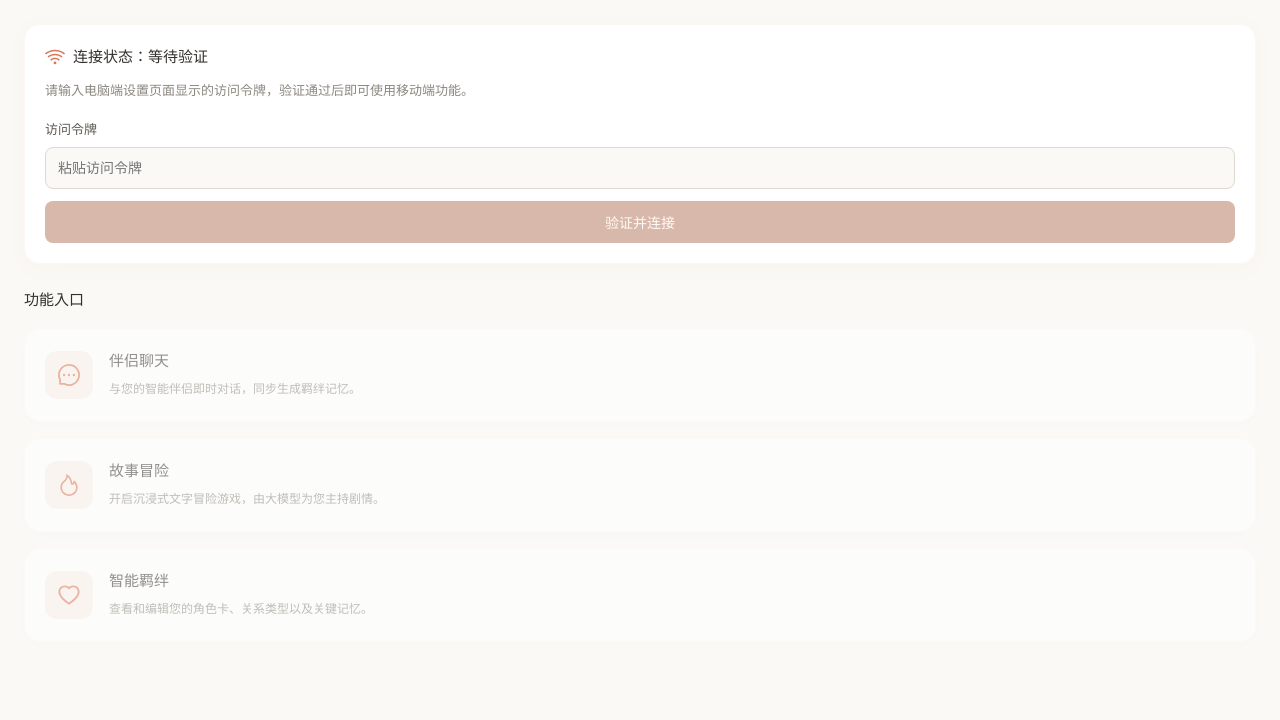
MobileHome navigation buttons › validates and saves a token before enabling feature entries
This screenshot has width=1280, height=720.
Type "valid-token" into the password field labelled "访问令牌".
click(640, 168); type("valid-token")  # box 45,146 -> 1235,188
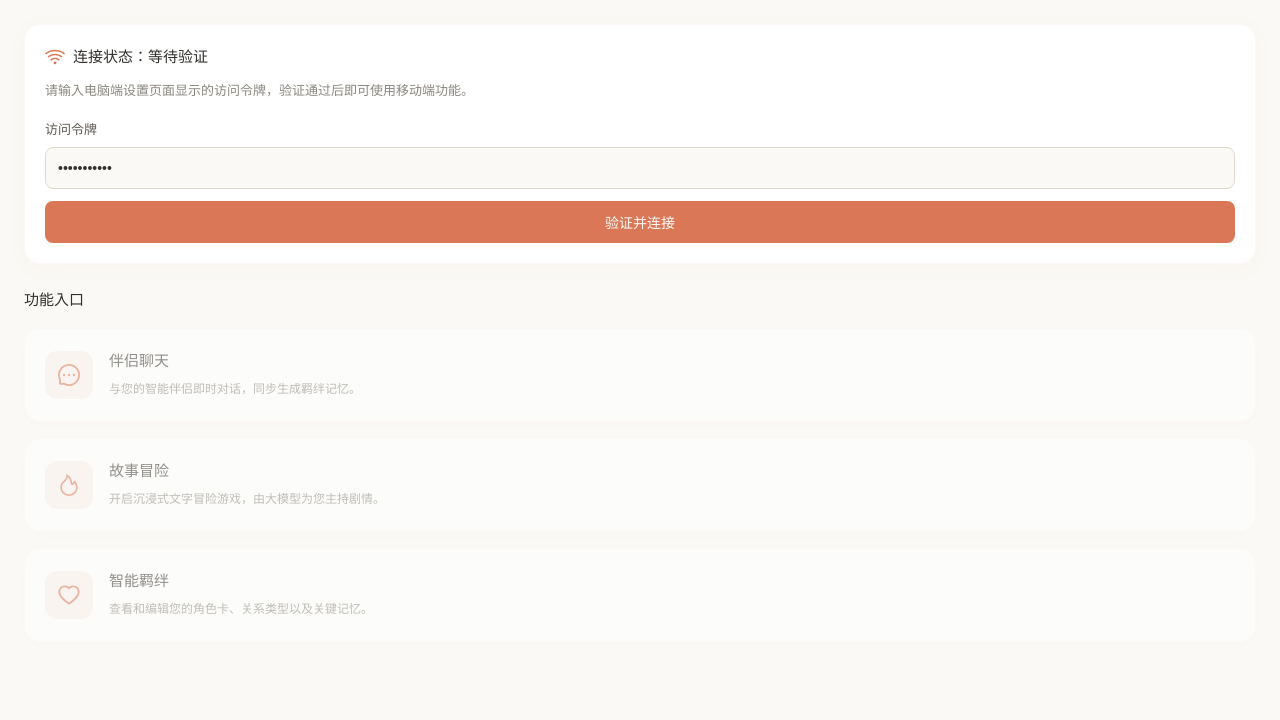
Click the button "验证并连接".
click(640, 222)  # box 45,200 -> 1235,242
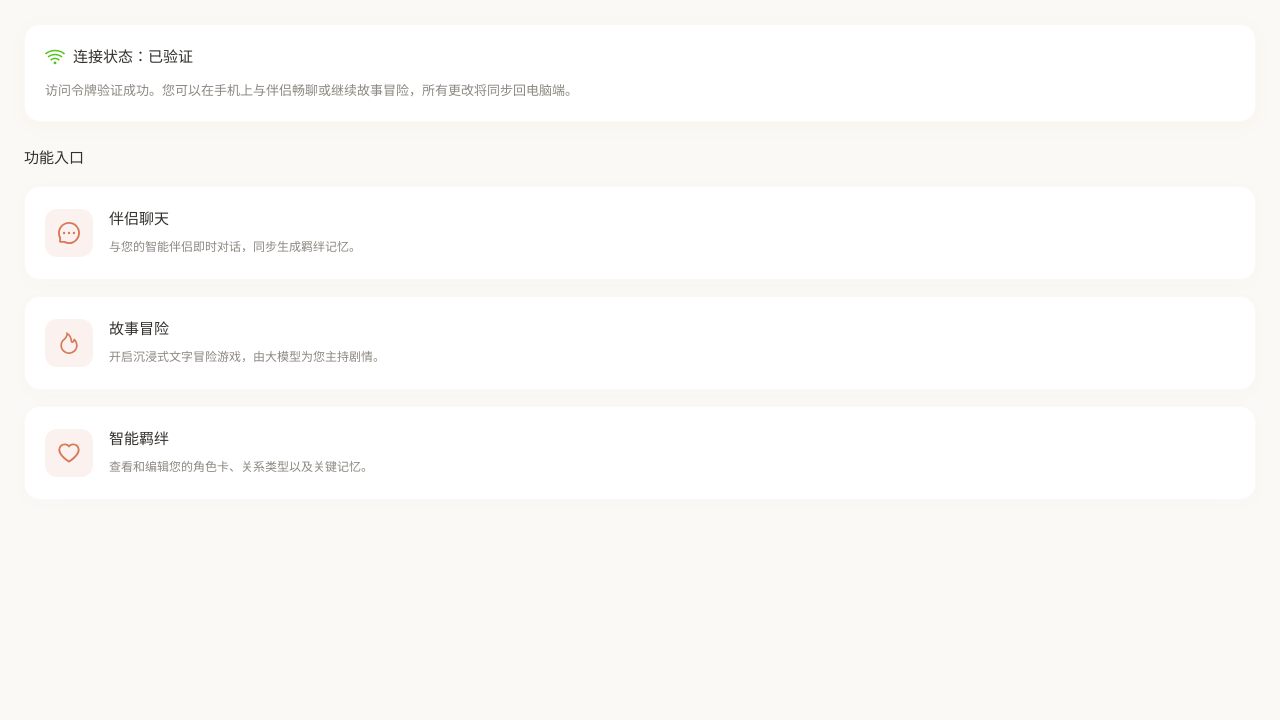
Expected: the text "连接状态：已验证" is shown, 73,45 -> 193,69
Expected: the button "伴侣聊天 与您的智能伴侣即时对话，同步生成羁绊记忆。" is enabled, 24,186 -> 1256,280
